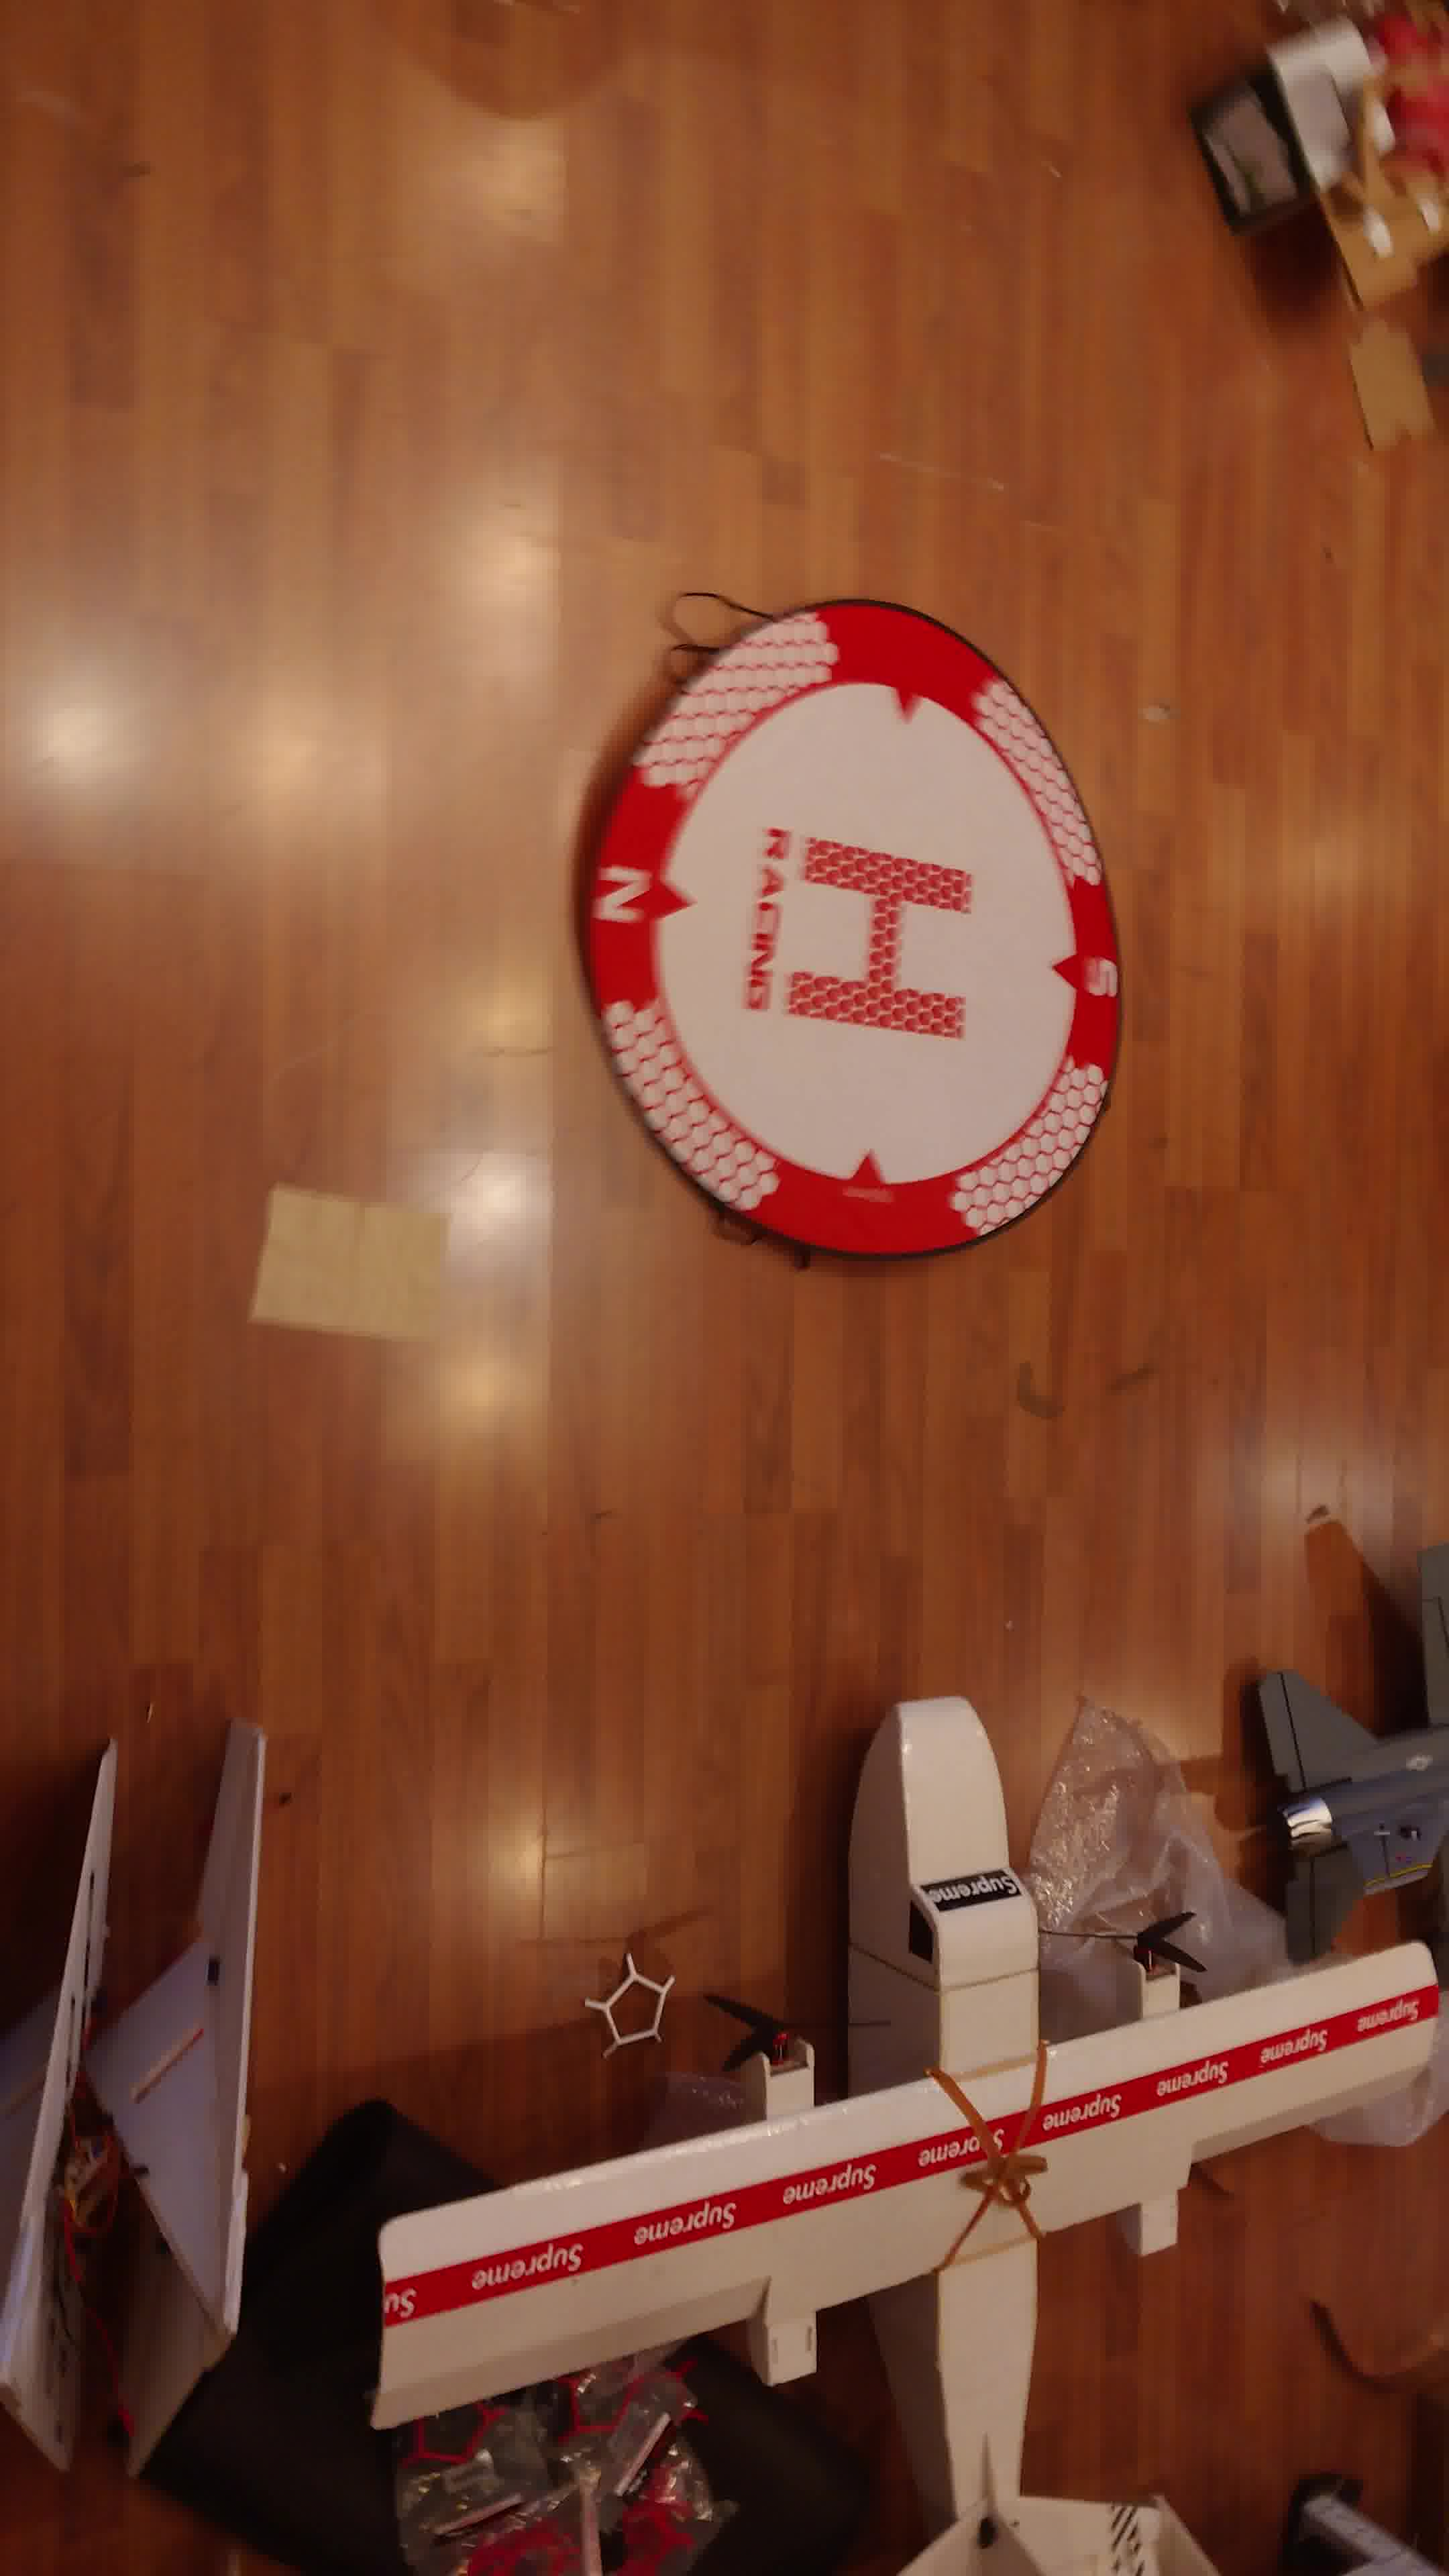H: (786, 839, 973, 1040)
